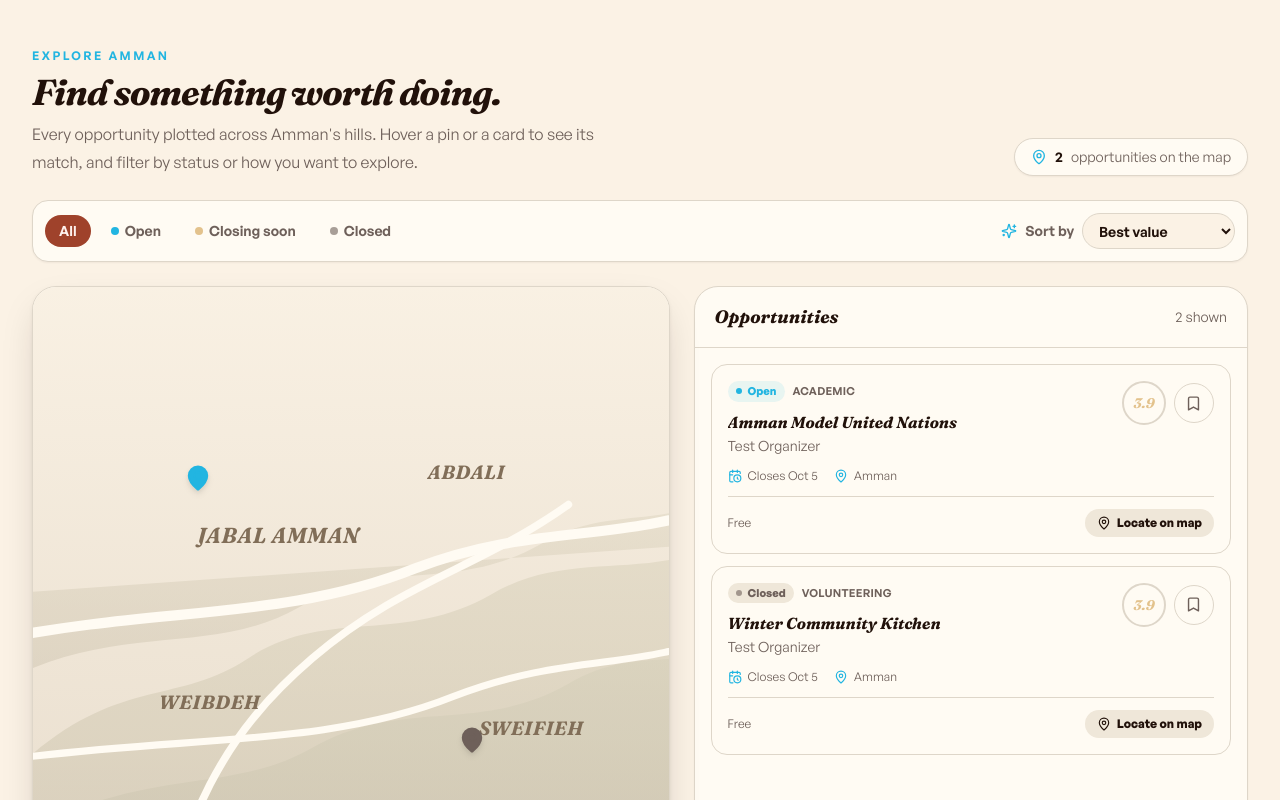
Test: MapPage › highlights the selected card when its marker is selected
The image size is (1280, 800).
Click the button with test id "map_marker.0": (198, 478) top-left (184, 464), bottom-right (212, 492)
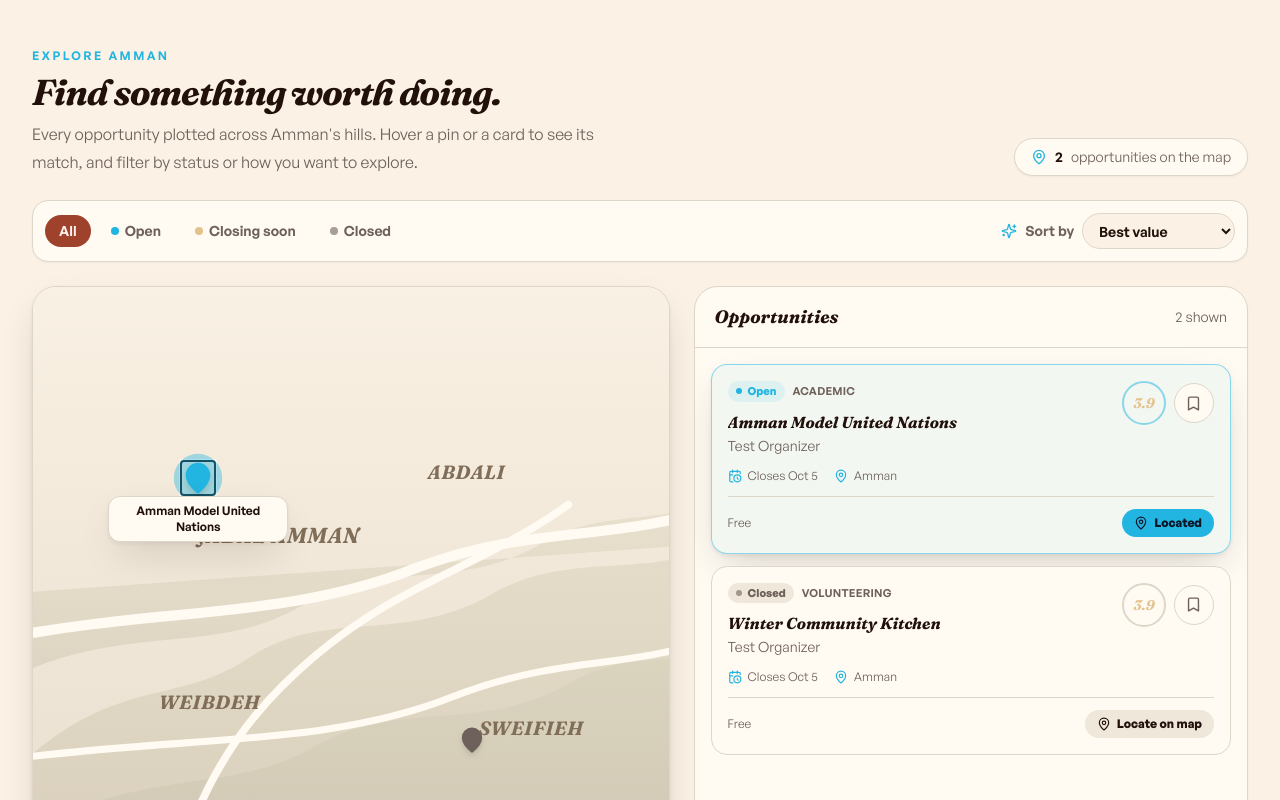
Check: the button "Located" is shown, box top-left (1122, 508), bottom-right (1214, 536)
